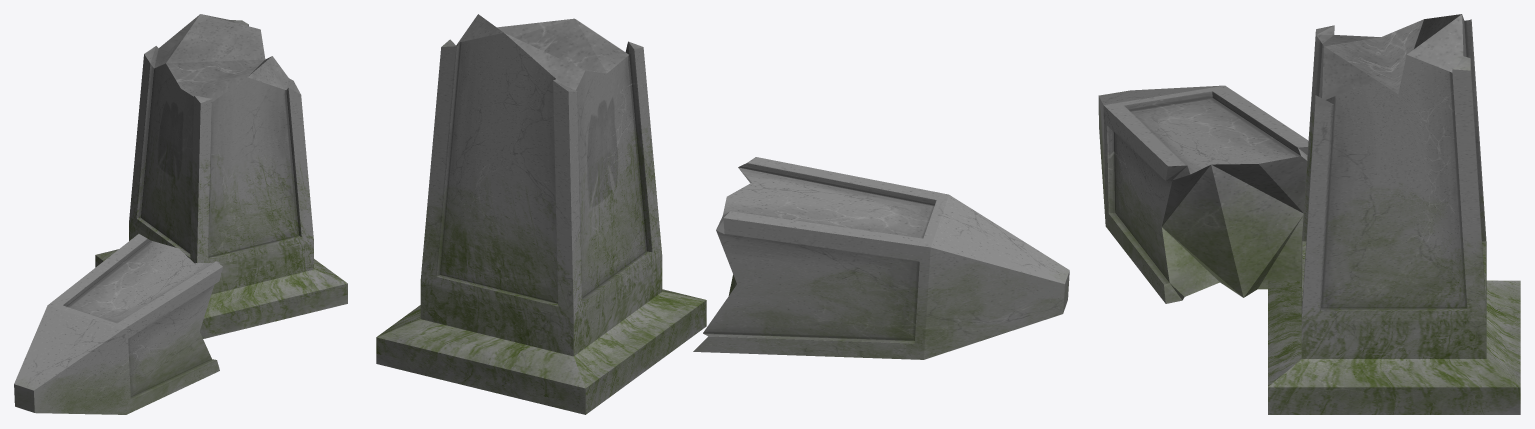
File: broken_grave_01.fbx
3 views of the same model, side by side, from view 1: azimuth 30°, elevation 25°; view 2: azimuth 150°, elevation 25°; view 3: azimuth 270°, elevation 25° (orthographic). The views are drawn at different scales.
Visible parts, largest first — view 1: broken grave 1; view 2: broken grave 1; view 3: broken grave 1.
Boxes of the visible parts, <box> form: broken grave 1: <box>14,14,347,414</box>; broken grave 1: <box>376,14,1069,414</box>; broken grave 1: <box>1098,14,1520,414</box>.
Size of the model in its own units: 2.36 by 1.5 by 1.64.
